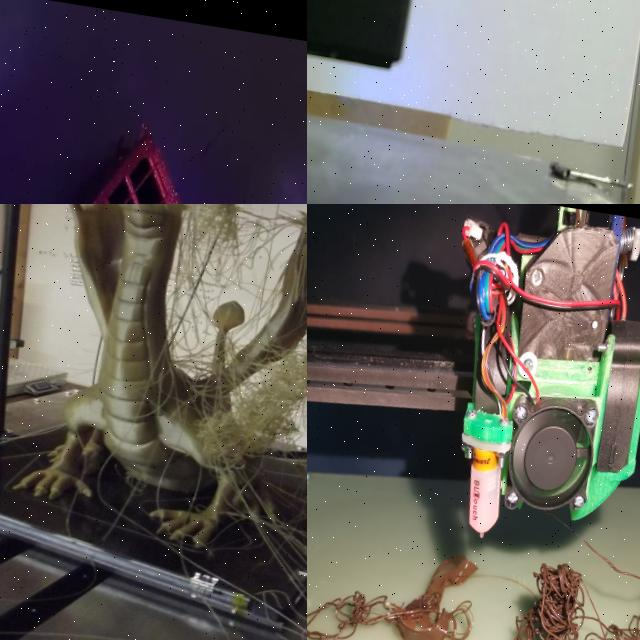spaghetti: (0, 204, 307, 640), (307, 530, 490, 640), (482, 531, 640, 640)
